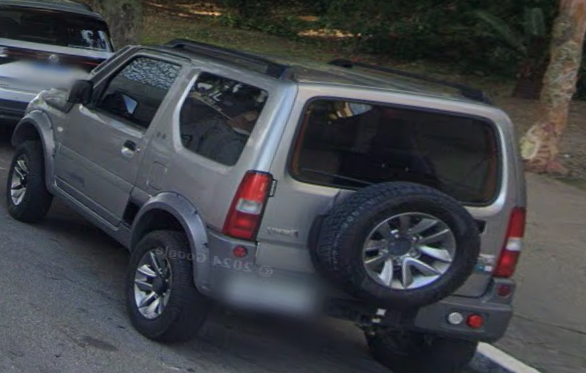car: (8, 37, 528, 363)
